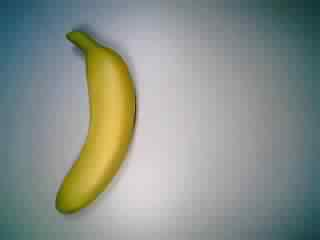banana: (53, 27, 139, 215)
